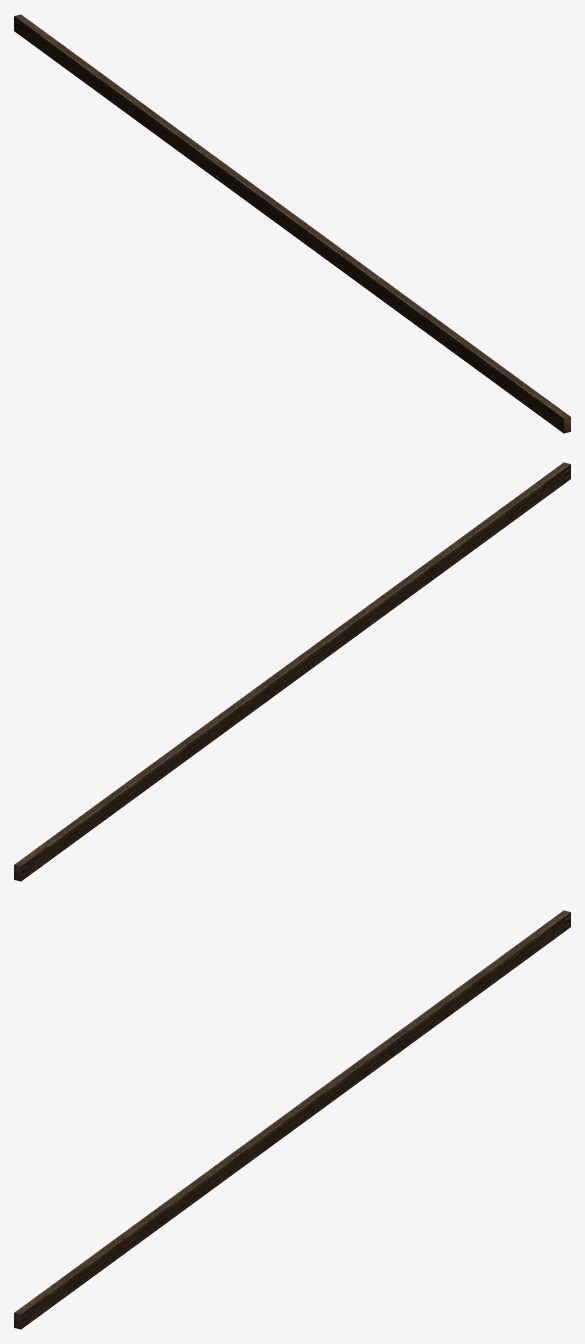
Rendered from Grindrail02.gltf.
3 views of the same model, one above another, from view 1: azimuth 30°, elevation 25°; view 2: azimuth 150°, elevation 25°; view 3: azimuth 330°, elevation 25° (orthographic).
Visible parts, largest first — view 1: Grindrail02Mesh; view 2: Grindrail02Mesh; view 3: Grindrail02Mesh.
Part boxes in pixels (<box>): Grindrail02Mesh: <box>14,14,570,433</box>; Grindrail02Mesh: <box>14,462,570,881</box>; Grindrail02Mesh: <box>14,910,570,1329</box>.
Bounding box in the file's own units: 0.15 × 0.3001 × 20.
Materials: 2 (2 with a texture image).
